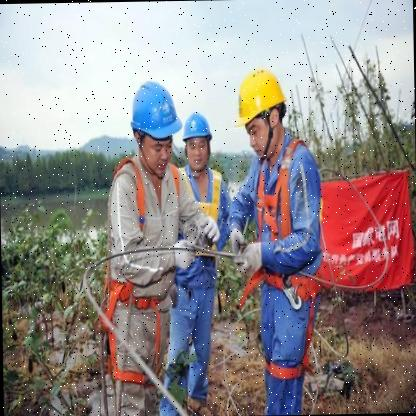capacete: (230, 64, 290, 130), (127, 77, 182, 148), (180, 110, 212, 148)
